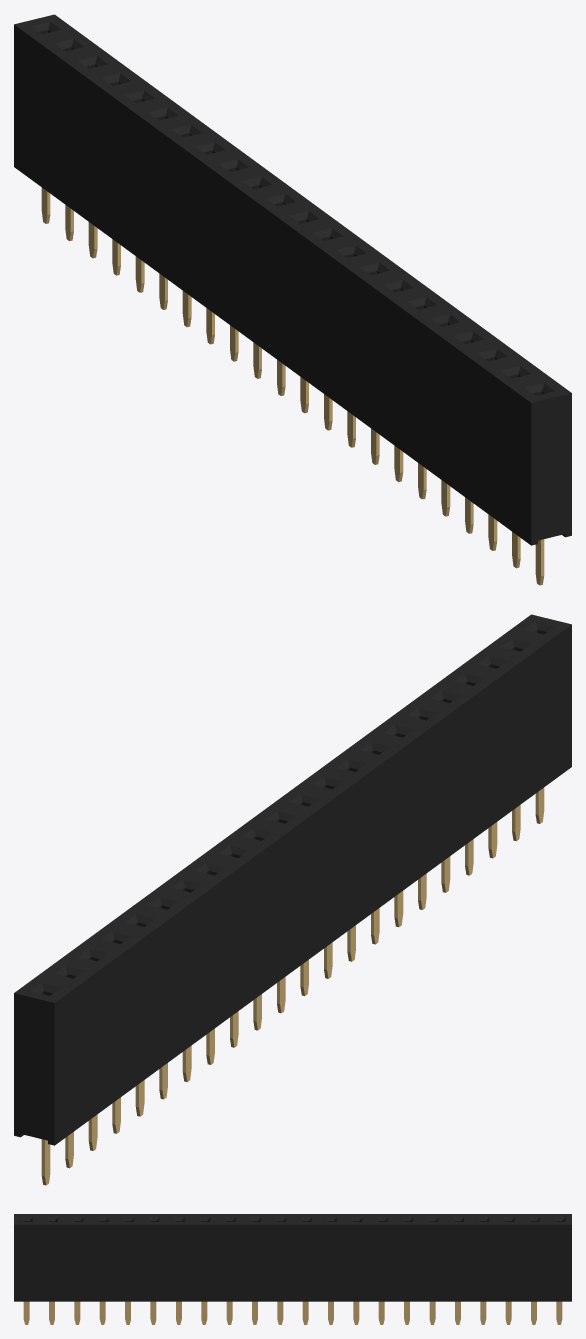
The model's file is kc-pinsocket_1x22_p2.54mm_vertical.glb.
3 renders of one model, top to bottom at view 1: azimuth 30°, elevation 25°; view 2: azimuth 150°, elevation 25°; view 3: azimuth 270°, elevation 25°, orthographic. The views are drawn at different scales.
Visible parts, largest first — view 1: 0_0_0_0, 0.75_0.5_0.25_0.9; view 2: 0_0_0_0, 0.75_0.5_0.25_0.9; view 3: 0_0_0_0, 0.75_0.5_0.25_0.9.
Boxes of the visible parts, x1,y1,x2,y2 form: 0_0_0_0: [14, 14, 571, 545]; 0.75_0.5_0.25_0.9: [41, 187, 544, 585]; 0_0_0_0: [14, 614, 571, 1145]; 0.75_0.5_0.25_0.9: [41, 787, 544, 1185]; 0_0_0_0: [14, 1214, 571, 1301]; 0.75_0.5_0.25_0.9: [23, 1301, 562, 1324].
Size of the model in its own units: 0.2538 by 1.16 by 5.59.
